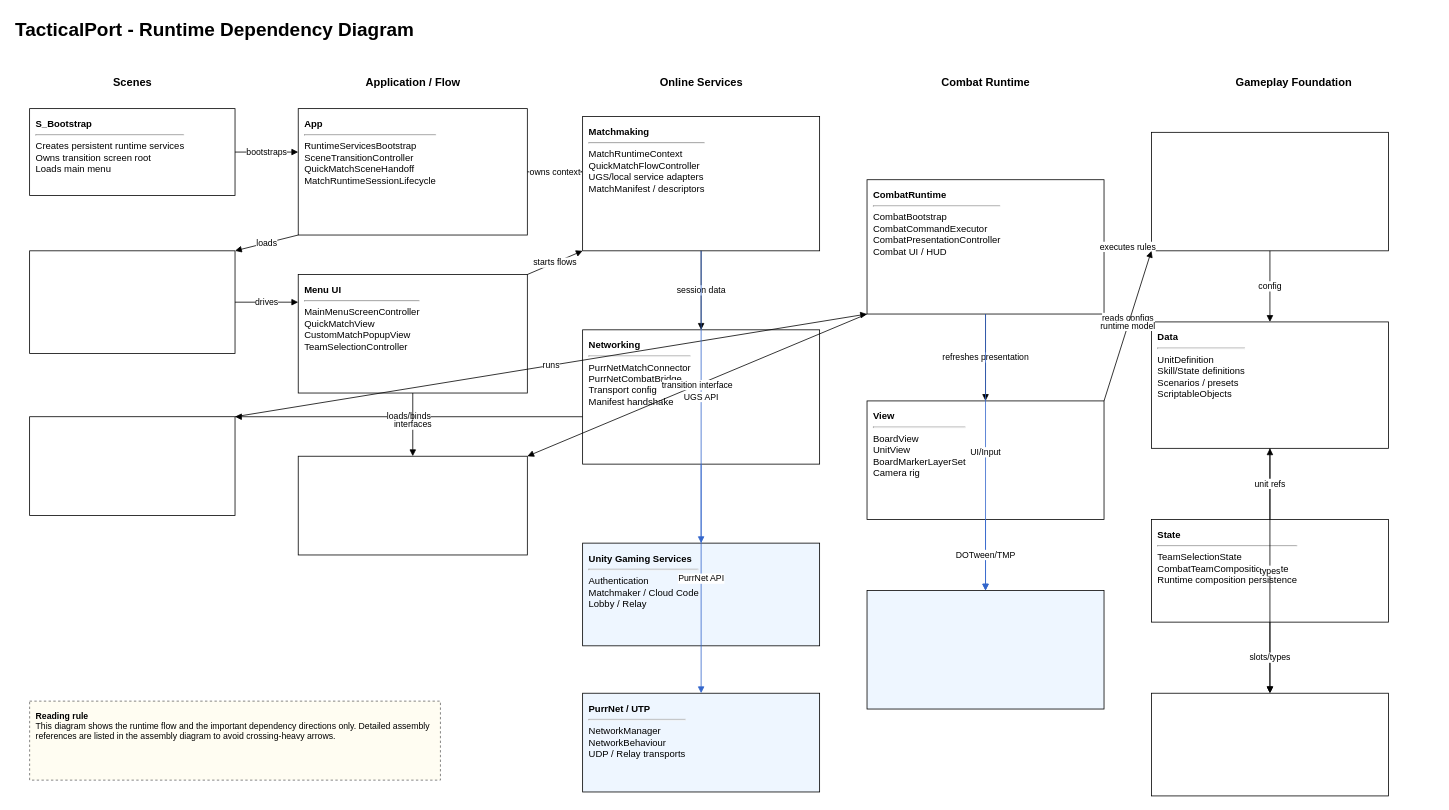
Image size: 1449x810. Some labels were removed from this diagram. Here are the shapes that lost their labels. From the top down, the centre of each, then its label:
At pixel 1269 191: "Core Battle service Grid/pathfinding Commands/results Target validation".
At pixel 132 302: "S_MainMenu Frontend shell Main menu screen Team/custom/quick match popups".
At pixel 132 465: "S_Poutch Combat scene Board / HUD / combat bridge Receives match context".
At pixel 412 505: "App.Contracts ISceneTransitionService IMenuPopupRouter ITeamSelectionPopupView".
At pixel 985 649: "UI / Input / Tween UnityEngine.UI TextMeshPro Input System DOTween modules".
At pixel 1269 744: "Shared GridCoord, ids, enums Team, slots, battle phases Pure value types".
